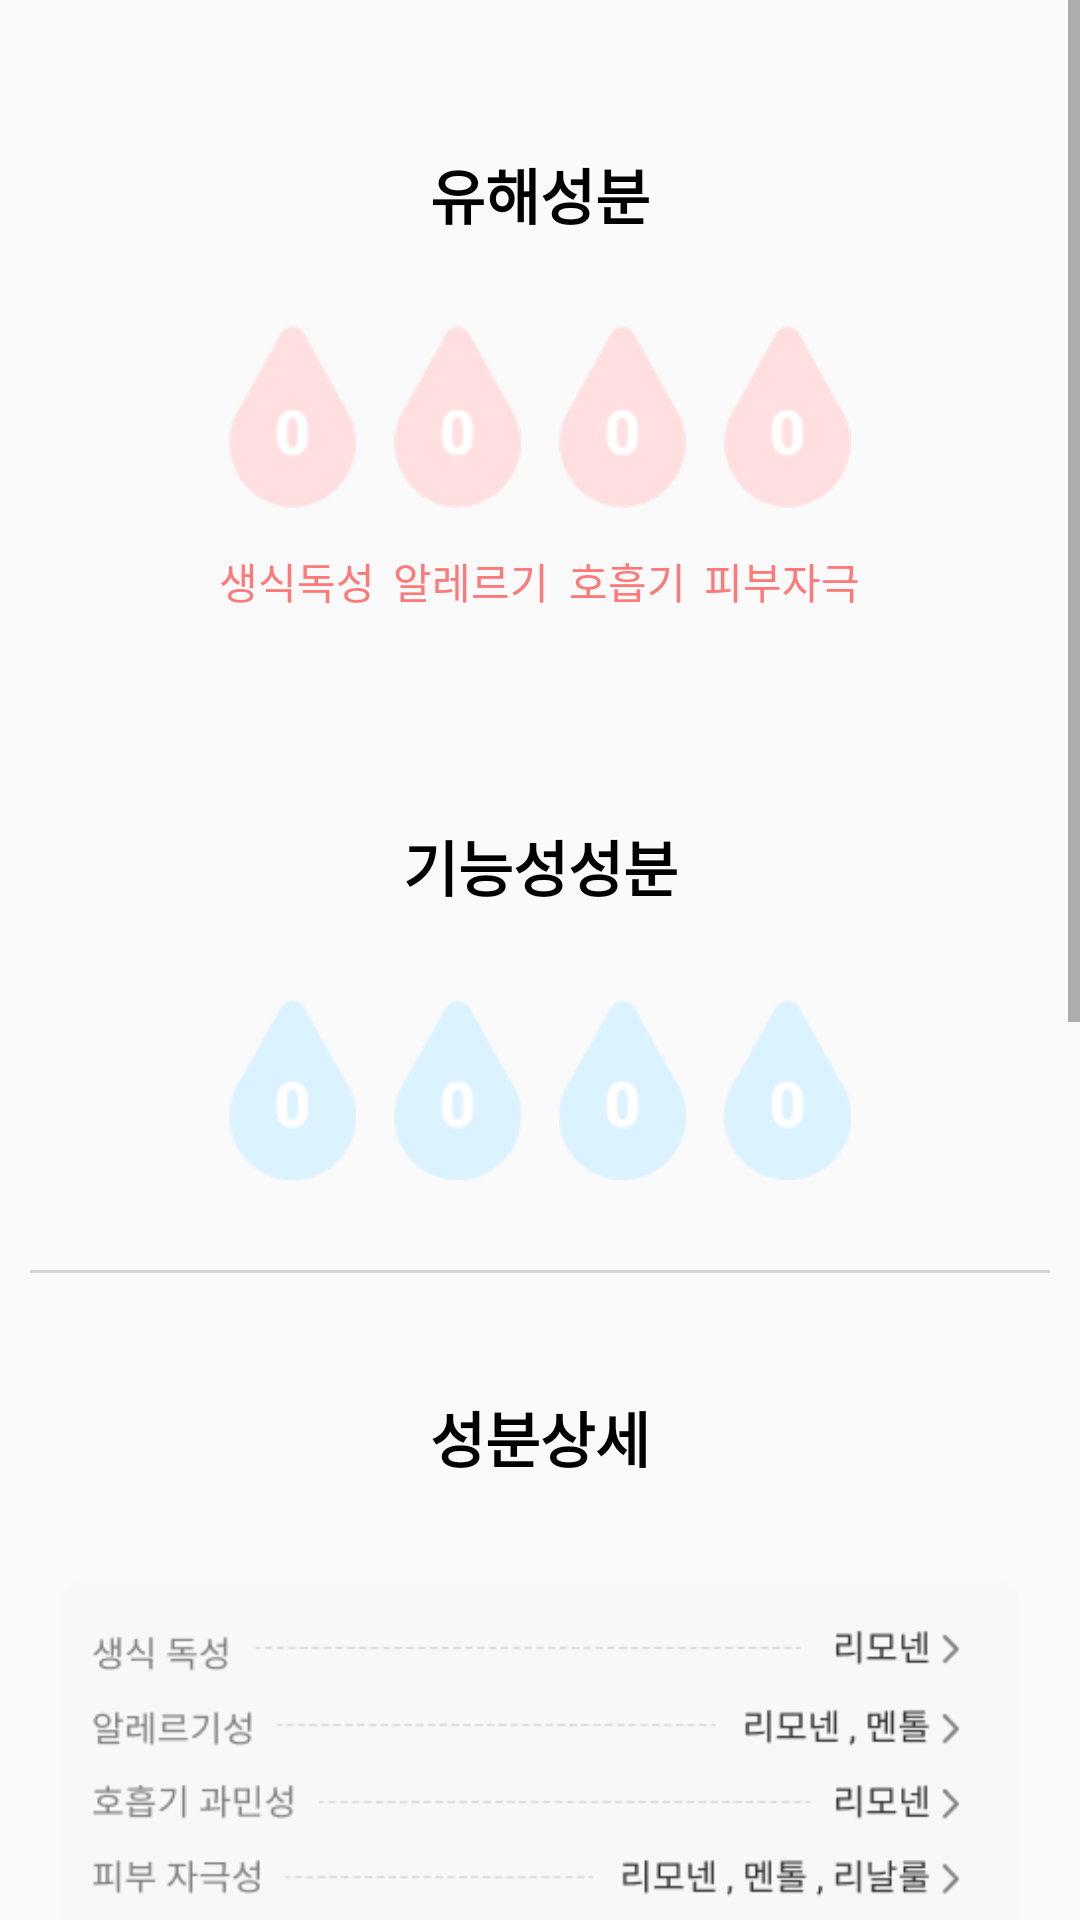

Where icons sit on this 1080*1920 app screen, as bbox=(x1, y1, x2, y2):
bad water: bbox=(232, 329, 354, 505), bbox=(397, 329, 519, 505), bbox=(562, 329, 684, 505), bbox=(727, 329, 849, 505)
good water: bbox=(230, 1002, 356, 1180), bbox=(395, 1002, 521, 1180), bbox=(560, 1002, 686, 1180), bbox=(725, 1002, 851, 1180)
